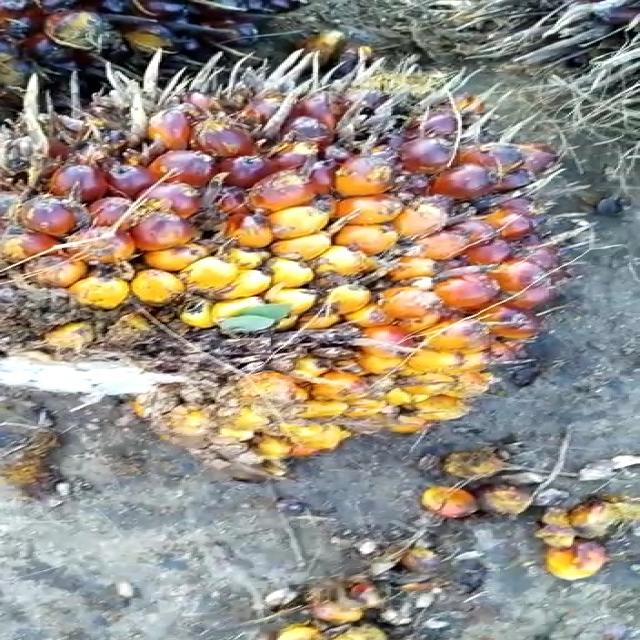palm oil: (0, 64, 565, 505)
